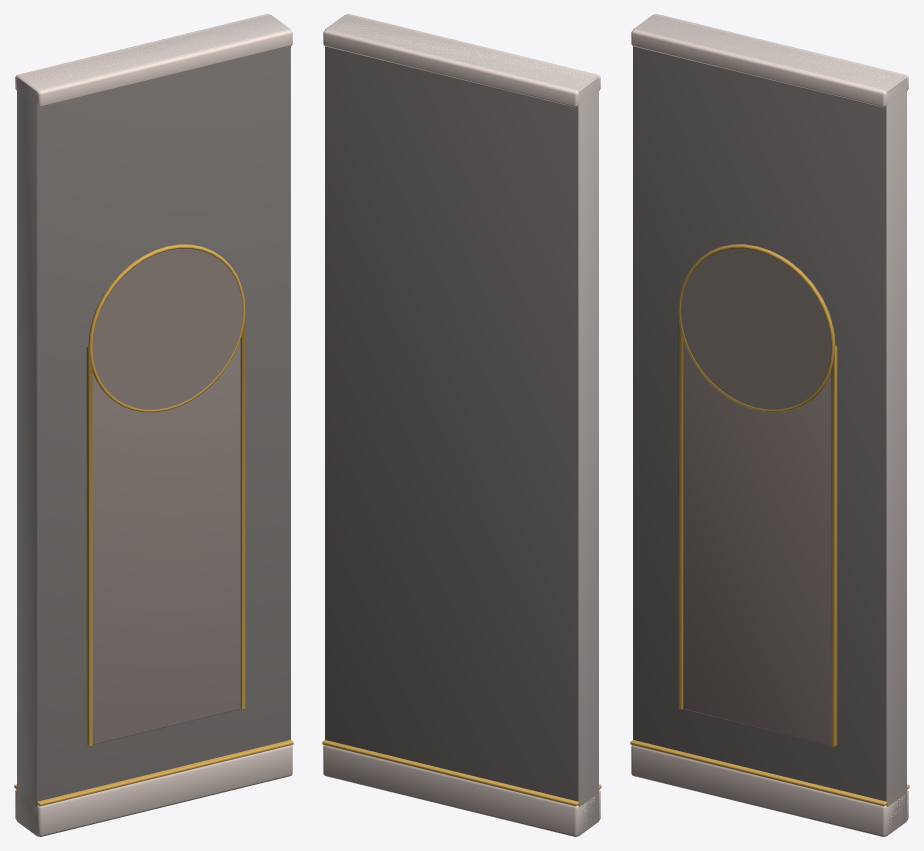
File: wall-arch.glb
3 views of the same model, side by side, from view 1: azimuth 30°, elevation 25°; view 2: azimuth 150°, elevation 25°; view 3: azimuth 330°, elevation 25° (orthographic).
Visible parts, largest first — view 1: wall-arch; view 2: wall-arch; view 3: wall-arch.
Boxes of the visible parts, box(x1,y1,x2,y2) form: wall-arch: box(14, 14, 293, 836); wall-arch: box(322, 14, 601, 836); wall-arch: box(630, 14, 909, 836).
Size of the model in its own units: 1 by 2.8 by 0.1841.
